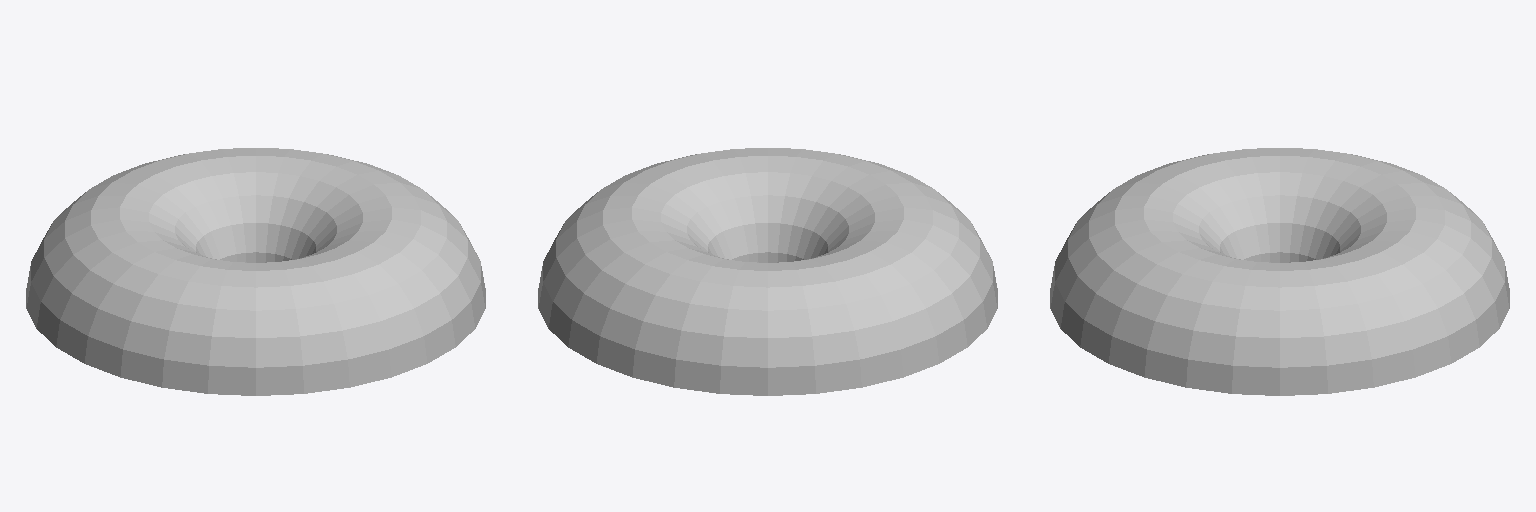
Rendered from Bagel.obj.
3 renders of one model, left to right at view 1: azimuth 30°, elevation 25°; view 2: azimuth 150°, elevation 25°; view 3: azimuth 270°, elevation 25°, orthographic.
Parts seen in each view (by area): view 1: Bagel_Torus.001; view 2: Bagel_Torus.001; view 3: Bagel_Torus.001.
Boxes of the visible parts, box(x1,y1,x2,y2) form: Bagel_Torus.001: box(26, 148, 485, 395); Bagel_Torus.001: box(538, 148, 997, 395); Bagel_Torus.001: box(1050, 148, 1509, 395).
Bounding box in the file's own units: 2.06 × 0.42 × 2.05.